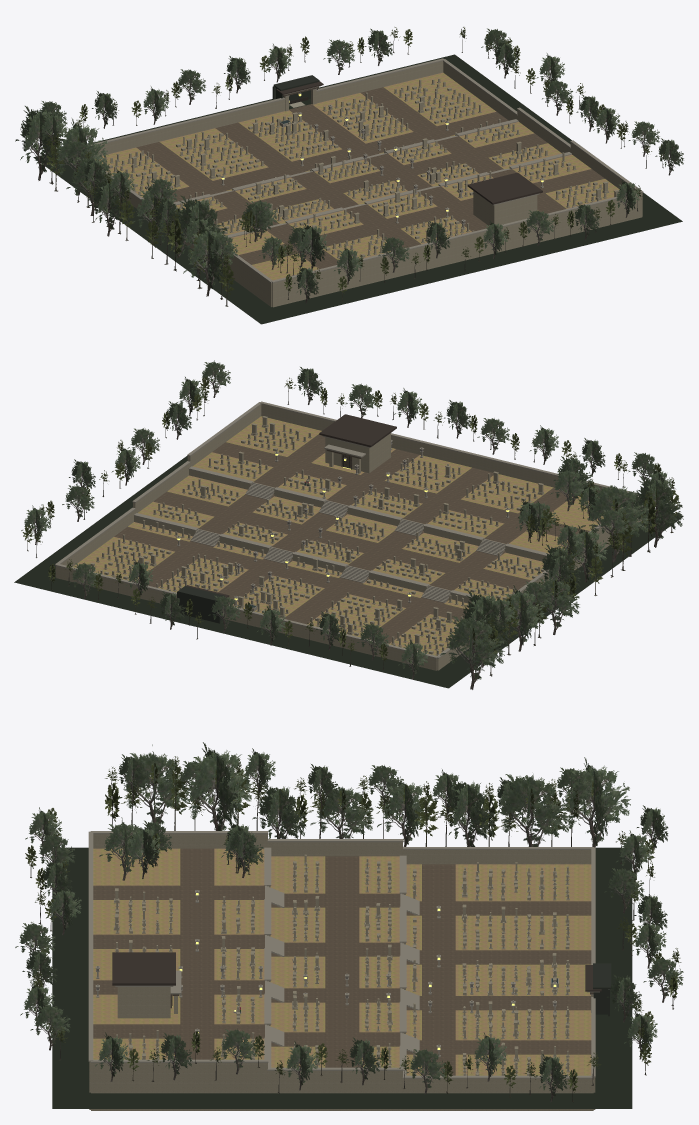
The model's file is old-cemetery.glb.
3 views of the same model, one above another, from view 1: azimuth 30°, elevation 25°; view 2: azimuth 150°, elevation 25°; view 3: azimuth 270°, elevation 25° (orthographic). The views are drawn at different scales.
Visible parts, largest first — view 1: bake:picture:cutout:billboard-tree_small.png, bake:leafy_grass:turf, bake:herringbone_pavement:paving:#c6bfa8, bake:concrete_wall_007:concrete:#8c8779, bake:plain:plain:#242a20:1.00:0.00:None, bake:plain:plain:#8a8477:1.00:0.00:None, bake:concrete_wall_007:concrete:#bdb7a8, bake:concrete_wall_007:concrete:#828c70, bake:picture:cutout:billboard-fir_a.png, bake:concrete_wall_007:concrete:#8e877c, bake:picture:cutout:billboard-fir_b.png, bake:plain:plain:#3b332d:1.00:0.00:None (+1 smaller); view 2: bake:picture:cutout:billboard-tree_small.png, bake:leafy_grass:turf, bake:herringbone_pavement:paving:#c6bfa8, bake:concrete_wall_007:concrete:#8c8779, bake:plain:plain:#242a20:1.00:0.00:None, bake:plain:plain:#8a8477:1.00:0.00:None, bake:concrete_wall_007:concrete:#bdb7a8, bake:concrete_wall_007:concrete:#828c70, bake:picture:cutout:billboard-fir_a.png, bake:concrete_wall_007:concrete:#8e877c, bake:picture:cutout:billboard-fir_b.png, bake:plain:plain:#3b332d:1.00:0.00:None (+1 smaller); view 3: bake:leafy_grass:turf, bake:picture:cutout:billboard-tree_small.png, bake:herringbone_pavement:paving:#c6bfa8, bake:plain:plain:#242a20:1.00:0.00:None, bake:concrete_wall_007:concrete:#8c8779, bake:plain:plain:#8a8477:1.00:0.00:None, bake:picture:cutout:billboard-fir_a.png, bake:concrete_wall_007:concrete:#bdb7a8, bake:concrete_wall_007:concrete:#828c70, bake:picture:cutout:billboard-fir_b.png, bake:concrete_wall_007:concrete:#8e877c, bake:plain:plain:#3b332d:1.00:0.00:None (+1 smaller).
Boxes of the visible parts, x1,y1,x2,y2 form: bake:picture:cutout:billboard-tree_small.png: (15, 28, 683, 303); bake:leafy_grass:turf: (95, 72, 619, 280); bake:herringbone_pavement:paving:#c6bfa8: (136, 87, 604, 268); bake:concrete_wall_007:concrete:#8c8779: (74, 61, 642, 307); bake:plain:plain:#242a20:1.00:0.00:None: (33, 54, 682, 324); bake:plain:plain:#8a8477:1.00:0.00:None: (89, 58, 643, 283); bake:concrete_wall_007:concrete:#bdb7a8: (104, 86, 609, 258); bake:concrete_wall_007:concrete:#828c70: (108, 78, 596, 257); bake:picture:cutout:billboard-fir_a.png: (38, 29, 664, 306); bake:concrete_wall_007:concrete:#8e877c: (113, 79, 619, 258); bake:picture:cutout:billboard-fir_b.png: (42, 27, 651, 299); bake:plain:plain:#3b332d:1.00:0.00:None: (276, 81, 542, 204); bake:picture:cutout:billboard-tree_small.png: (21, 360, 683, 689); bake:leafy_grass:turf: (73, 416, 620, 655); bake:herringbone_pavement:paving:#c6bfa8: (114, 434, 589, 643); bake:concrete_wall_007:concrete:#8c8779: (55, 404, 642, 670); bake:plain:plain:#242a20:1.00:0.00:None: (14, 456, 683, 688); bake:plain:plain:#8a8477:1.00:0.00:None: (55, 401, 638, 658); bake:concrete_wall_007:concrete:#bdb7a8: (101, 422, 540, 655); bake:concrete_wall_007:concrete:#828c70: (90, 428, 544, 655); bake:picture:cutout:billboard-fir_a.png: (22, 376, 680, 676); bake:concrete_wall_007:concrete:#8e877c: (89, 416, 537, 650); bake:picture:cutout:billboard-fir_b.png: (32, 377, 675, 680); bake:plain:plain:#3b332d:1.00:0.00:None: (186, 414, 396, 597); bake:leafy_grass:turf: (93, 848, 591, 1075); bake:picture:cutout:billboard-tree_small.png: (15, 742, 683, 1101); bake:herringbone_pavement:paving:#c6bfa8: (93, 848, 591, 1075); bake:plain:plain:#242a20:1.00:0.00:None: (52, 847, 632, 1108); bake:concrete_wall_007:concrete:#8c8779: (89, 834, 595, 1110); bake:plain:plain:#8a8477:1.00:0.00:None: (88, 831, 599, 1078); bake:picture:cutout:billboard-fir_a.png: (25, 763, 677, 1102); bake:concrete_wall_007:concrete:#bdb7a8: (115, 854, 569, 1075); bake:concrete_wall_007:concrete:#828c70: (114, 861, 569, 1075); bake:picture:cutout:billboard-fir_b.png: (29, 756, 681, 1095); bake:concrete_wall_007:concrete:#8e877c: (113, 862, 569, 1075); bake:plain:plain:#3b332d:1.00:0.00:None: (112, 952, 601, 991).
Bounding box in the file's own units: 149 × 27.13 × 139.
Materials: 20 (7 with a texture image).
